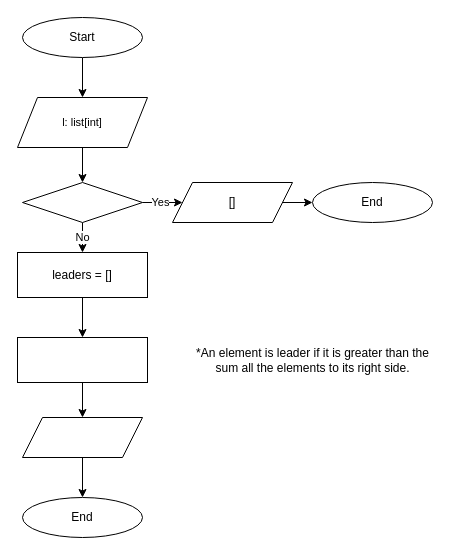
The diagram is 460 pixels wide and 555 high, and some of its shapes have lost their labels. The shapes that lost their labels are listed below. From the top down, each one's centre as x and y in pixels, then its label:
At [82,202]: "len(l) == 0".
At [82,359]: "Populate the list leaders with the leaders* of the list l.".
At [82,437]: "leaders".
